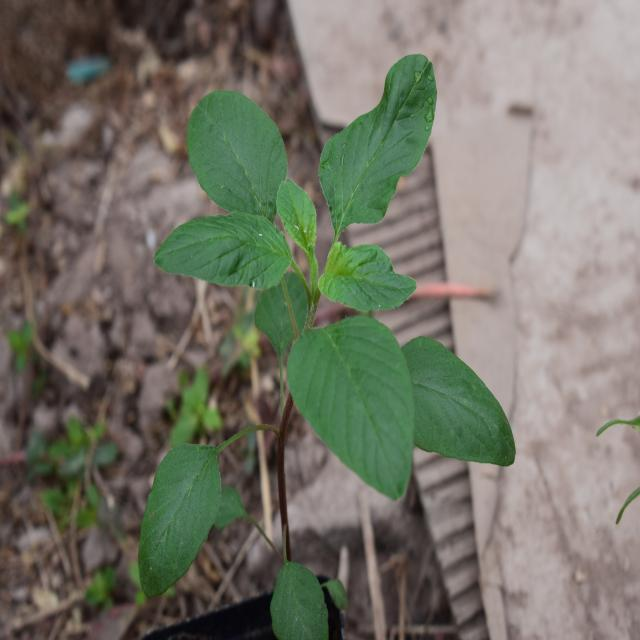pigweed: (137, 52, 512, 564)
